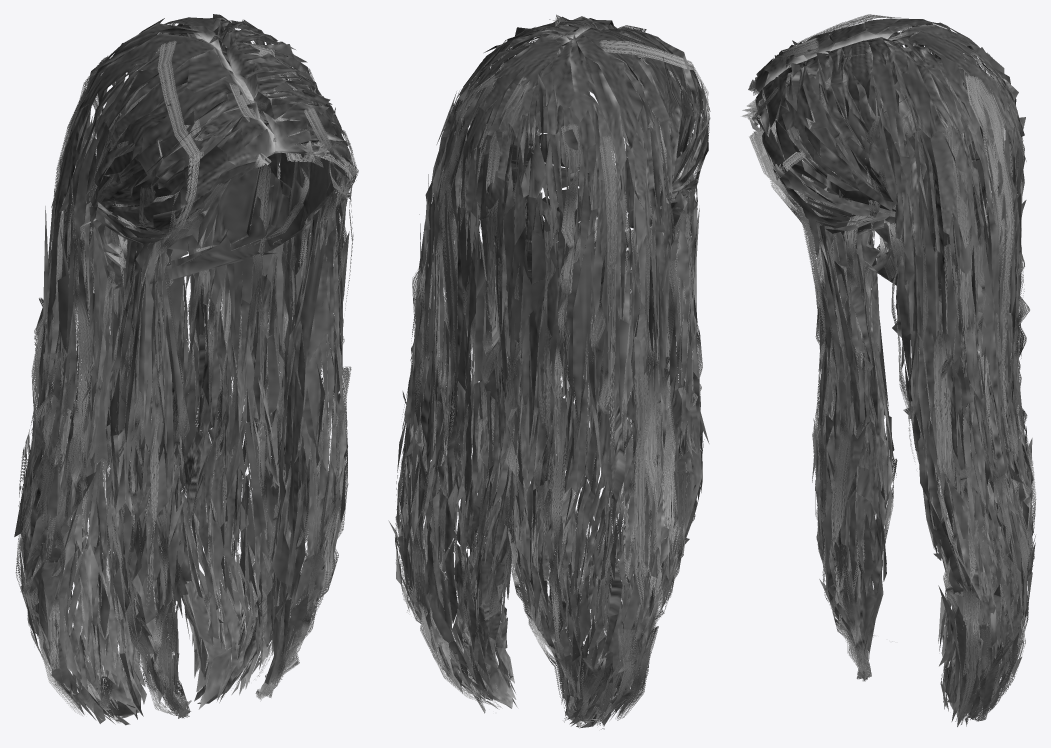
Rendered from hair_long.glb.
3 renders of one model, left to right at view 1: azimuth 30°, elevation 25°; view 2: azimuth 150°, elevation 25°; view 3: azimuth 270°, elevation 25°, orthographic. The views are drawn at different scales.
Parts seen in each view (by area): view 1: Mesh_0, haircards; view 2: Mesh_0, haircards; view 3: Mesh_0, haircards.
Part boxes in pixels (<box>): Mesh_0: <box>14,14,351,725</box>; haircards: <box>15,22,358,723</box>; Mesh_0: <box>388,16,710,728</box>; haircards: <box>395,14,710,729</box>; Mesh_0: <box>749,18,1035,726</box>; haircards: <box>741,14,1036,723</box>.
Bounding box in the file's own units: 0.2346 × 0.538 × 0.2149.
2 materials, 2 textured.
